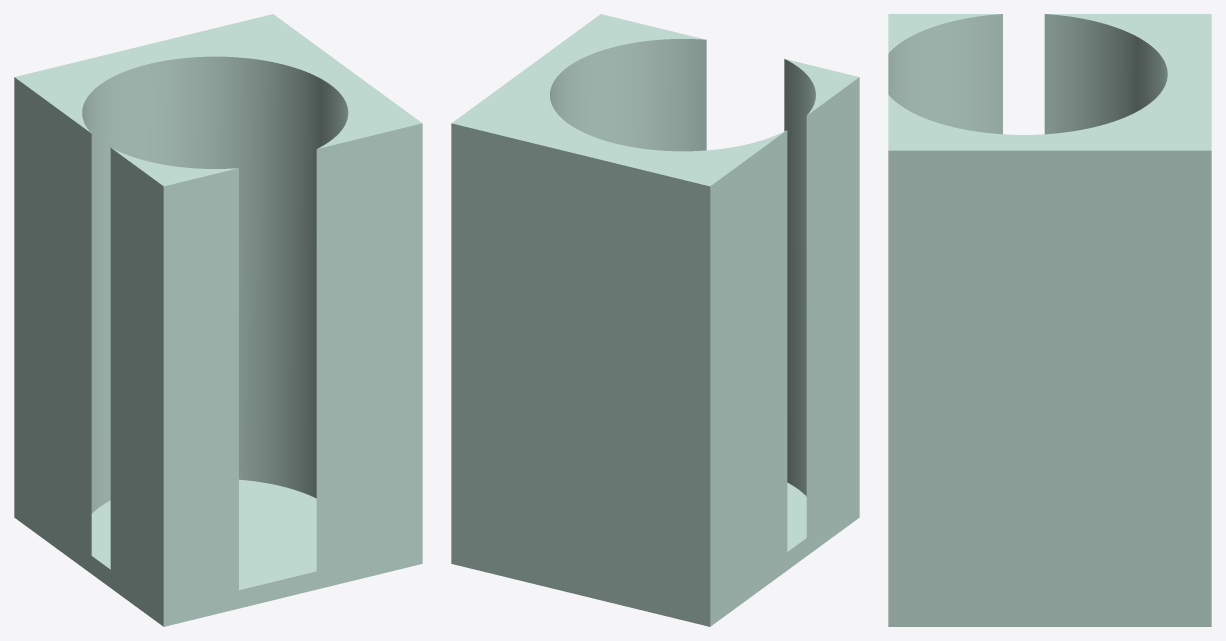
3 views of the same model, side by side, from view 1: azimuth 30°, elevation 25°; view 2: azimuth 150°, elevation 25°; view 3: azimuth 270°, elevation 25° (orthographic). The views are drawn at different scales.
Visible parts, largest first — view 1: Renderer Node; view 2: Renderer Node; view 3: Renderer Node.
Part boxes in pixels (x1,y1,x2,y2): Renderer Node: [14, 14, 422, 626]; Renderer Node: [451, 14, 859, 626]; Renderer Node: [888, 14, 1211, 626].
Size of the model in its own units: 0.4609 by 0.75 by 0.4609.
